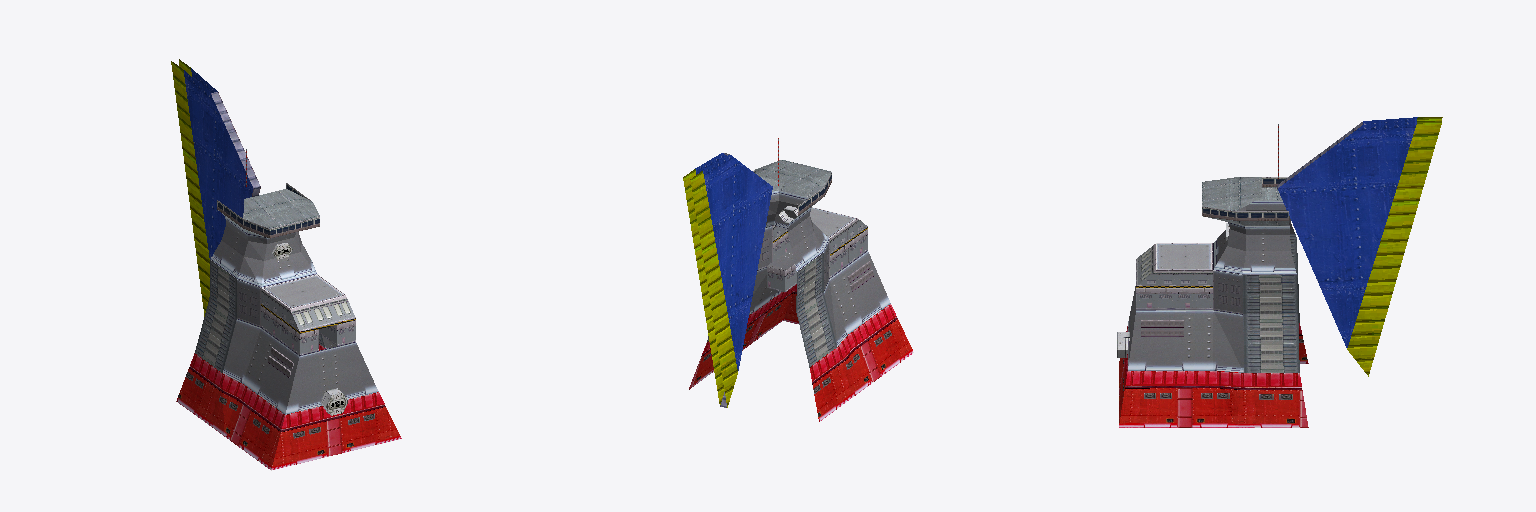
3 renders of one model, left to right at view 1: azimuth 30°, elevation 25°; view 2: azimuth 150°, elevation 25°; view 3: azimuth 270°, elevation 25°, orthographic.
Parts seen in each view (by area): view 1: s13_on_23_12, s13_on_23_0, s13_on_23_13, s13_on_23_17, s13_on_23_14, s13_on_23_5, s13_on_23_9, s13_on_23_16, s13_on_23_18, s13_on_23_4, s13_on_23_3, s13_on_23_6 (+2 smaller); view 2: s13_on_23_13, s13_on_23_0, s13_on_23_12, s13_on_23_14, s13_on_23_17, s13_on_23_5, s13_on_23_9, s13_on_23_16, s13_on_23_3, s13_on_23_2; view 3: s13_on_23_13, s13_on_23_0, s13_on_23_12, s13_on_23_14, s13_on_23_17, s13_on_23_5, s13_on_23_9, s13_on_23_16, s13_on_23_3, s13_on_23_2, s13_on_23_4, s13_on_23_11 (+1 smaller).
Part boxes in pixels (x1,y1,x2,y2): s13_on_23_12: (210, 216, 378, 414); s13_on_23_0: (176, 344, 401, 470); s13_on_23_13: (184, 68, 252, 258); s13_on_23_17: (195, 260, 324, 372); s13_on_23_14: (171, 59, 209, 316); s13_on_23_5: (218, 189, 319, 238); s13_on_23_9: (261, 306, 355, 354); s13_on_23_16: (262, 274, 344, 308); s13_on_23_18: (290, 295, 355, 331); s13_on_23_4: (217, 183, 319, 238); s13_on_23_3: (237, 280, 260, 326); s13_on_23_6: (211, 92, 260, 196); s13_on_23_13: (695, 153, 772, 370); s13_on_23_0: (689, 284, 913, 421); s13_on_23_12: (749, 190, 890, 346); s13_on_23_14: (683, 169, 737, 407); s13_on_23_17: (707, 253, 836, 367); s13_on_23_5: (755, 160, 831, 221); s13_on_23_9: (767, 229, 867, 291); s13_on_23_16: (810, 207, 857, 238); s13_on_23_3: (758, 226, 829, 289); s13_on_23_2: (773, 219, 867, 253); s13_on_23_13: (1278, 117, 1417, 347); s13_on_23_0: (1119, 323, 1308, 427); s13_on_23_12: (1128, 201, 1296, 372); s13_on_23_14: (1347, 117, 1442, 376); s13_on_23_17: (1243, 239, 1299, 372); s13_on_23_5: (1202, 177, 1289, 225); s13_on_23_9: (1136, 288, 1212, 309); s13_on_23_16: (1156, 243, 1212, 269); s13_on_23_3: (1213, 271, 1242, 313); s13_on_23_2: (1137, 270, 1212, 285); s13_on_23_4: (1202, 177, 1288, 220); s13_on_23_11: (1141, 321, 1183, 336).
Size of the model in its own units: 700 by 1430 by 1506.
Materials: 19 (19 with a texture image).